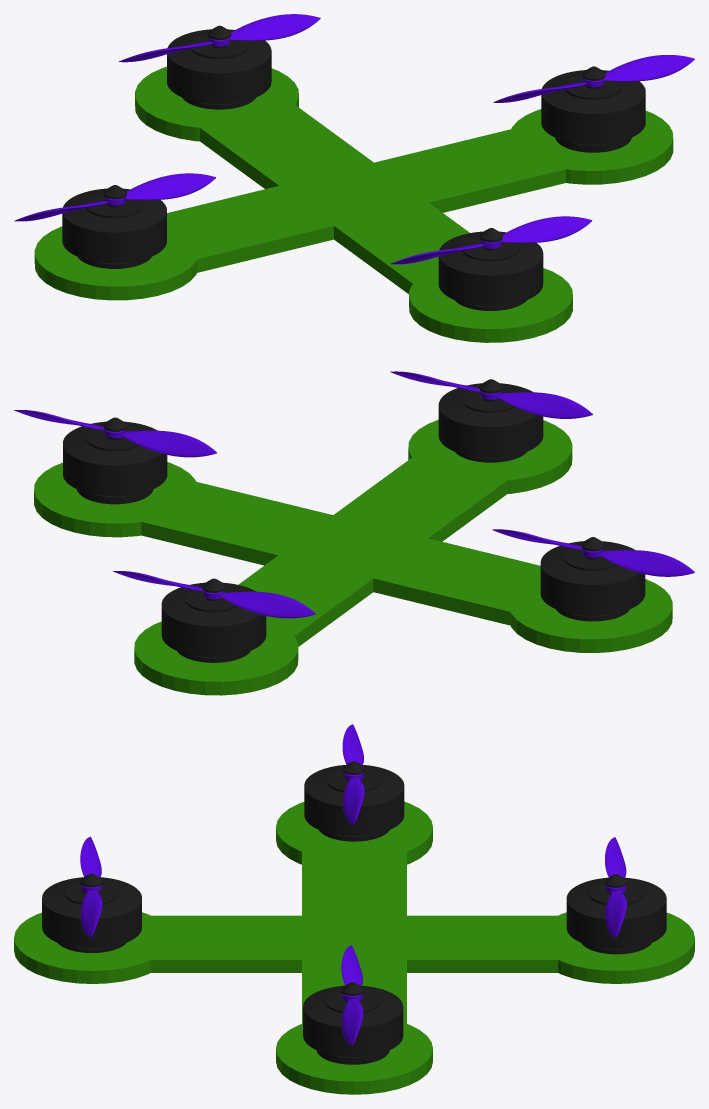
The model's file is realthing.glb.
3 renders of one model, top to bottom at view 1: azimuth 30°, elevation 25°; view 2: azimuth 150°, elevation 25°; view 3: azimuth 270°, elevation 25°, orthographic. The views are drawn at different scales.
Visible parts, largest first — view 1: Cube, Cylinder.008, Cylinder.004, Cylinder.007, Cylinder.002, Cylinder.005, Cylinder.001, Cylinder.003, Cylinder.006; view 2: Cube, Cylinder.008, Cylinder.007, Cylinder.004, Cylinder.002, Cylinder.005, Cylinder.001, Cylinder.006, Cylinder.003; view 3: Cube, Cylinder.008, Cylinder.007, Cylinder.004, Cylinder.002, Cylinder.001, Cylinder.005, Cylinder.006, Cylinder.003.
Boxes of the visible parts, left/top/right/bottom form: Cube: left=34, top=66, right=673, bottom=342; Cylinder.008: left=541, top=66, right=645, bottom=152; Cylinder.004: left=167, top=25, right=271, bottom=109; Cylinder.007: left=62, top=185, right=166, bottom=268; Cylinder.002: left=438, top=228, right=543, bottom=310; Cylinder.005: left=493, top=55, right=694, bottom=102; Cylinder.001: left=390, top=216, right=592, bottom=264; Cylinder.003: left=119, top=14, right=320, bottom=62; Cylinder.006: left=14, top=173, right=215, bottom=221; Cube: left=34, top=419, right=672, bottom=695; Cylinder.008: left=63, top=417, right=167, bottom=504; Cylinder.007: left=540, top=537, right=645, bottom=621; Cylinder.004: left=161, top=578, right=266, bottom=662; Cylinder.002: left=438, top=379, right=543, bottom=462; Cylinder.005: left=14, top=410, right=216, bottom=457; Cylinder.001: left=390, top=371, right=592, bottom=418; Cylinder.006: left=492, top=529, right=694, bottom=576; Cylinder.003: left=113, top=571, right=315, bottom=618; Cube: left=14, top=801, right=694, bottom=1094; Cylinder.008: left=303, top=982, right=403, bottom=1064; Cylinder.007: left=304, top=761, right=404, bottom=841; Cylinder.004: left=566, top=874, right=666, bottom=954; Cylinder.002: left=42, top=873, right=141, bottom=952; Cylinder.001: left=80, top=836, right=102, bottom=937; Cylinder.005: left=341, top=945, right=363, bottom=1045; Cylinder.006: left=342, top=724, right=364, bottom=824; Cylinder.003: left=605, top=837, right=626, bottom=937.
Size of the model in its own units: 5.11 by 0.5927 by 4.63.
